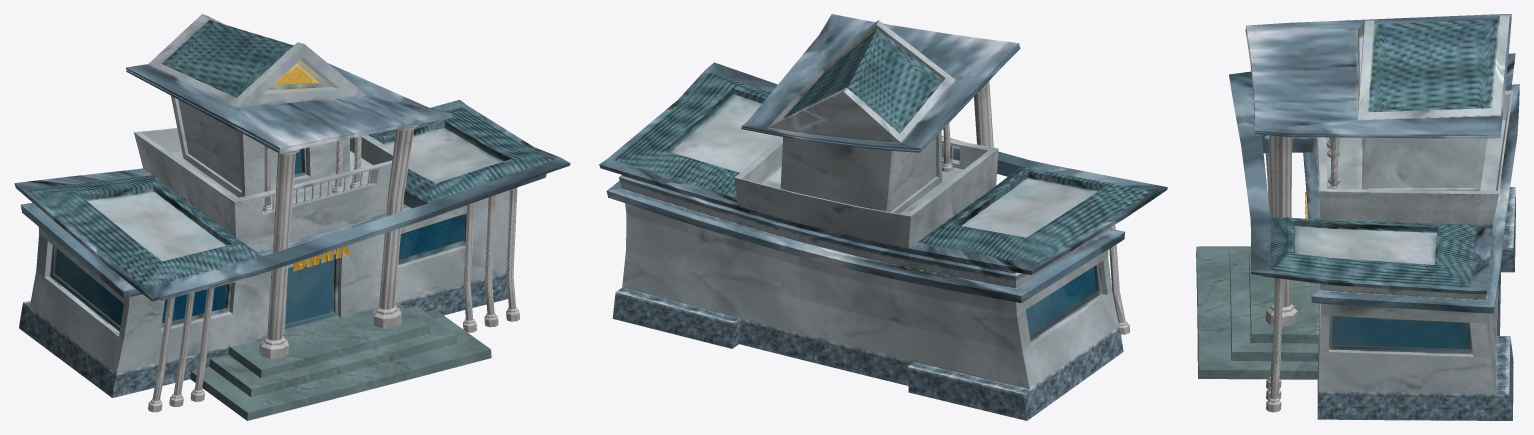
Rendered from Bank.glb.
3 renders of one model, left to right at view 1: azimuth 30°, elevation 25°; view 2: azimuth 150°, elevation 25°; view 3: azimuth 270°, elevation 25°, orthographic. The views are drawn at different scales.
Parts seen in each view (by area): view 1: Bank512; view 2: Bank512; view 3: Bank512.
Boxes of the visible parts, box(x1,y1,x2,y2) form: Bank512: box(14, 14, 570, 420); Bank512: box(599, 14, 1167, 420); Bank512: box(1196, 14, 1519, 420).
Bounding box in the file's own units: 7.62 × 4.82 × 4.64.
1 material, 1 textured.
